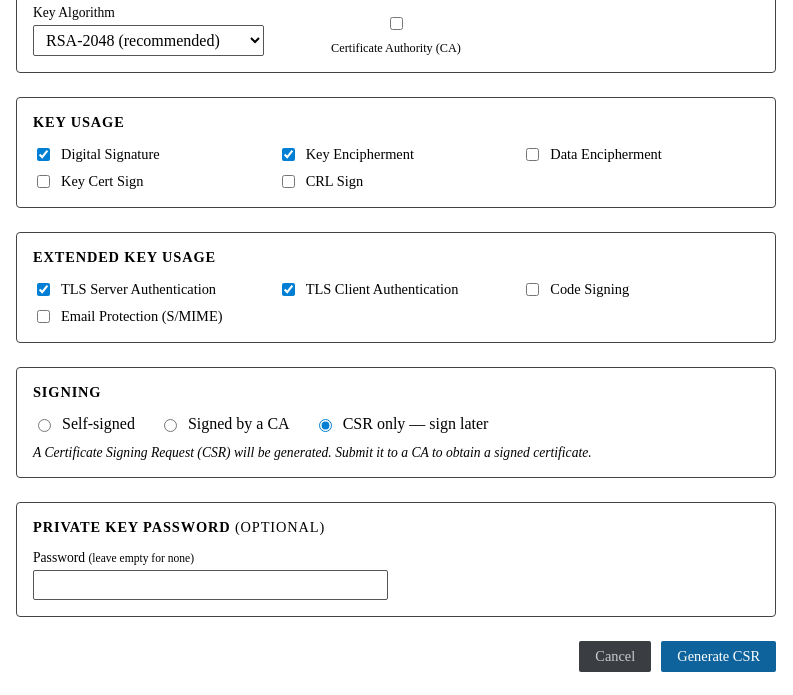
Test: CreateCertPanel.svelte › shows validation error when CN is missing
(page scrolled)
Step 1. Click the button with test id "create-cert-generate" → x=719, y=656, box left=661, top=641, right=776, bottom=672
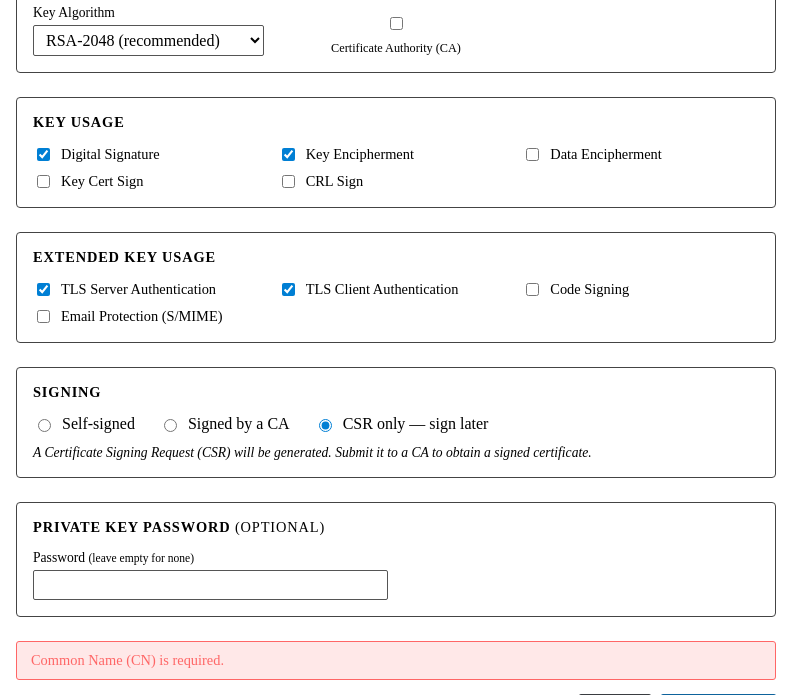
Check: the text "Common Name (CN) is required." is shown, box left=16, top=641, right=776, bottom=680
